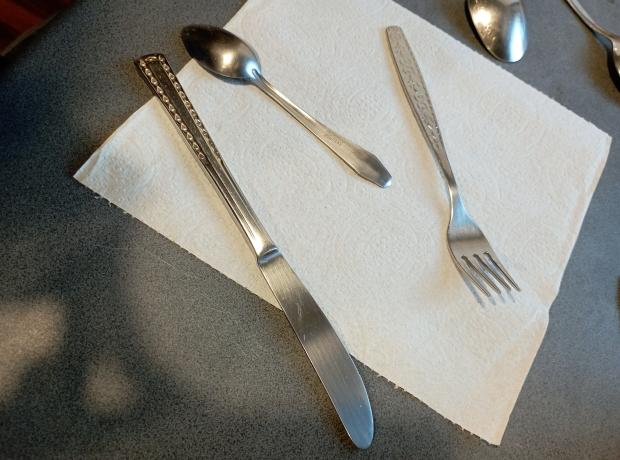metal: (133, 51, 378, 450), (387, 24, 522, 299), (179, 22, 394, 187)
